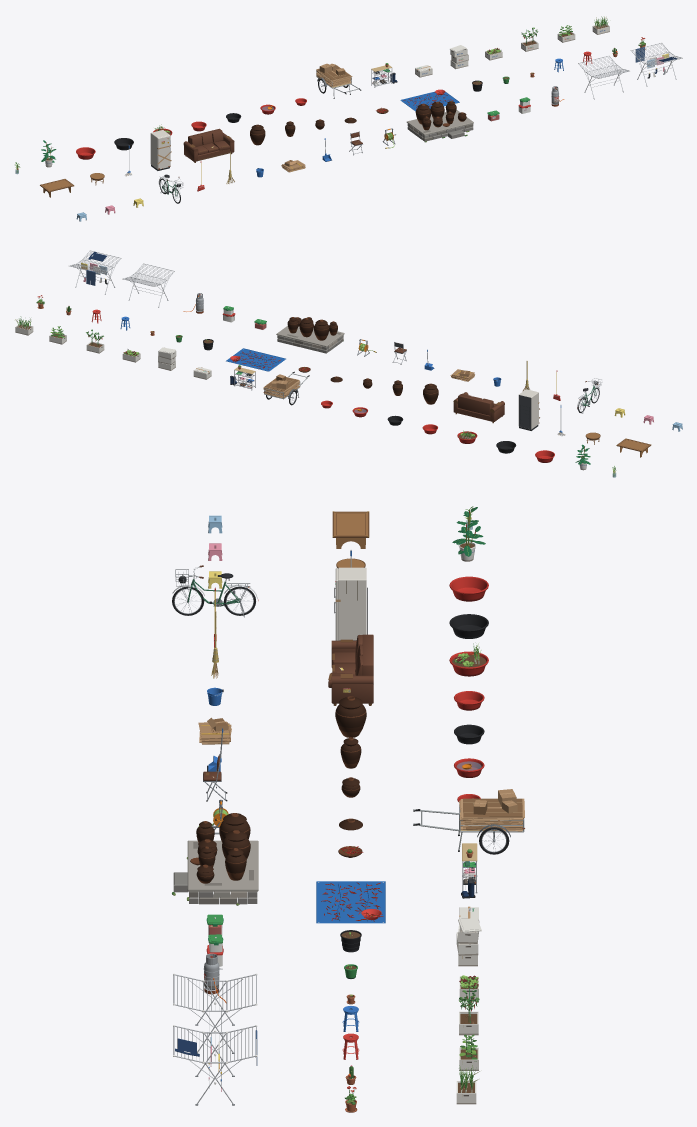
Rendered from SeoulCorner_AlleyHousehold.glb.
3 views of the same model, one above another, from view 1: azimuth 30°, elevation 25°; view 2: azimuth 150°, elevation 25°; view 3: azimuth 270°, elevation 25° (orthographic). The views are drawn at different scales.
Parts seen in each view (by area): view 1: SC_Home_Jangdokdae, SC_Home_Old_Sofa, SC_Home_Laundry_Rack_Clothes, SC_Home_Scrap_Handcart, SC_Home_Old_Fridge_Discarded, SC_Home_Laundry_Rack, SC_Home_Pepper_Drying_Mat, SC_Home_Shoe_Rack_Outdoor, SC_Home_Styrofoam_Box_Stack, SC_Home_Bicycle_Old; view 2: SC_Home_Jangdokdae, SC_Home_Old_Sofa, SC_Home_Laundry_Rack_Clothes, SC_Home_Old_Fridge_Discarded, SC_Home_Pepper_Drying_Mat, SC_Home_Scrap_Handcart, SC_Home_Laundry_Rack, SC_Home_Shoe_Rack_Outdoor, SC_Home_Styrofoam_Box_Stack, SC_Home_Bicycle_Old; view 3: SC_Home_Jangdokdae, SC_Home_Scrap_Handcart, SC_Home_Pepper_Drying_Mat, SC_Home_Old_Sofa, SC_Home_Old_Fridge_Discarded, SC_Home_Laundry_Rack_Clothes, SC_Home_Bicycle_Old, SC_Home_Laundry_Rack, SC_Home_Low_Table_Folding, SC_Home_Styrofoam_Box_Stack, SC_Home_Onggi_Jar_L.
Part boxes in pixels (box(x1,y1,x2,y2)): SC_Home_Jangdokdae: box(406, 101, 473, 142); SC_Home_Old_Sofa: box(183, 128, 234, 162); SC_Home_Laundry_Rack_Clothes: box(630, 42, 682, 86); SC_Home_Scrap_Handcart: box(316, 63, 361, 98); SC_Home_Old_Fridge_Discarded: box(150, 130, 171, 170); SC_Home_Laundry_Rack: box(578, 55, 629, 99); SC_Home_Pepper_Drying_Mat: box(400, 89, 459, 111); SC_Home_Shoe_Rack_Outdoor: box(371, 63, 397, 87); SC_Home_Styrofoam_Box_Stack: box(450, 45, 468, 69); SC_Home_Bicycle_Old: box(158, 174, 183, 203); SC_Home_Jangdokdae: box(276, 317, 344, 353); SC_Home_Old_Sofa: box(453, 392, 504, 423); SC_Home_Laundry_Rack_Clothes: box(69, 250, 121, 294); SC_Home_Old_Fridge_Discarded: box(518, 389, 539, 430); SC_Home_Pepper_Drying_Mat: box(226, 348, 285, 371); SC_Home_Scrap_Handcart: box(263, 371, 309, 405); SC_Home_Laundry_Rack: box(122, 263, 174, 307); SC_Home_Shoe_Rack_Outdoor: box(230, 365, 255, 390); SC_Home_Styrofoam_Box_Stack: box(158, 347, 176, 370); SC_Home_Bicycle_Old: box(577, 378, 602, 413); SC_Home_Jangdokdae: box(172, 813, 258, 905); SC_Home_Scrap_Handcart: box(413, 789, 524, 854); SC_Home_Pepper_Drying_Mat: box(316, 881, 385, 923); SC_Home_Old_Sofa: box(328, 634, 373, 705); SC_Home_Old_Fridge_Discarded: box(334, 567, 367, 640); SC_Home_Laundry_Rack_Clothes: box(173, 1025, 257, 1105); SC_Home_Bicycle_Old: box(172, 565, 258, 617); SC_Home_Laundry_Rack: box(173, 973, 257, 1053); SC_Home_Low_Table_Folding: box(332, 511, 369, 548); SC_Home_Styrofoam_Box_Stack: box(456, 918, 481, 966); SC_Home_Onggi_Jar_L: box(335, 696, 366, 737).
Bounding box in the file's own units: 28.4 × 1.5 × 7.22.
3 materials, 3 textured.
